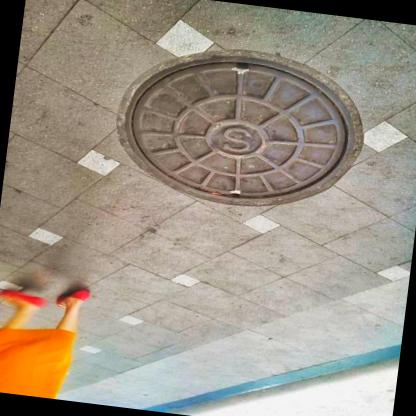manholes: (83, 22, 378, 235)
